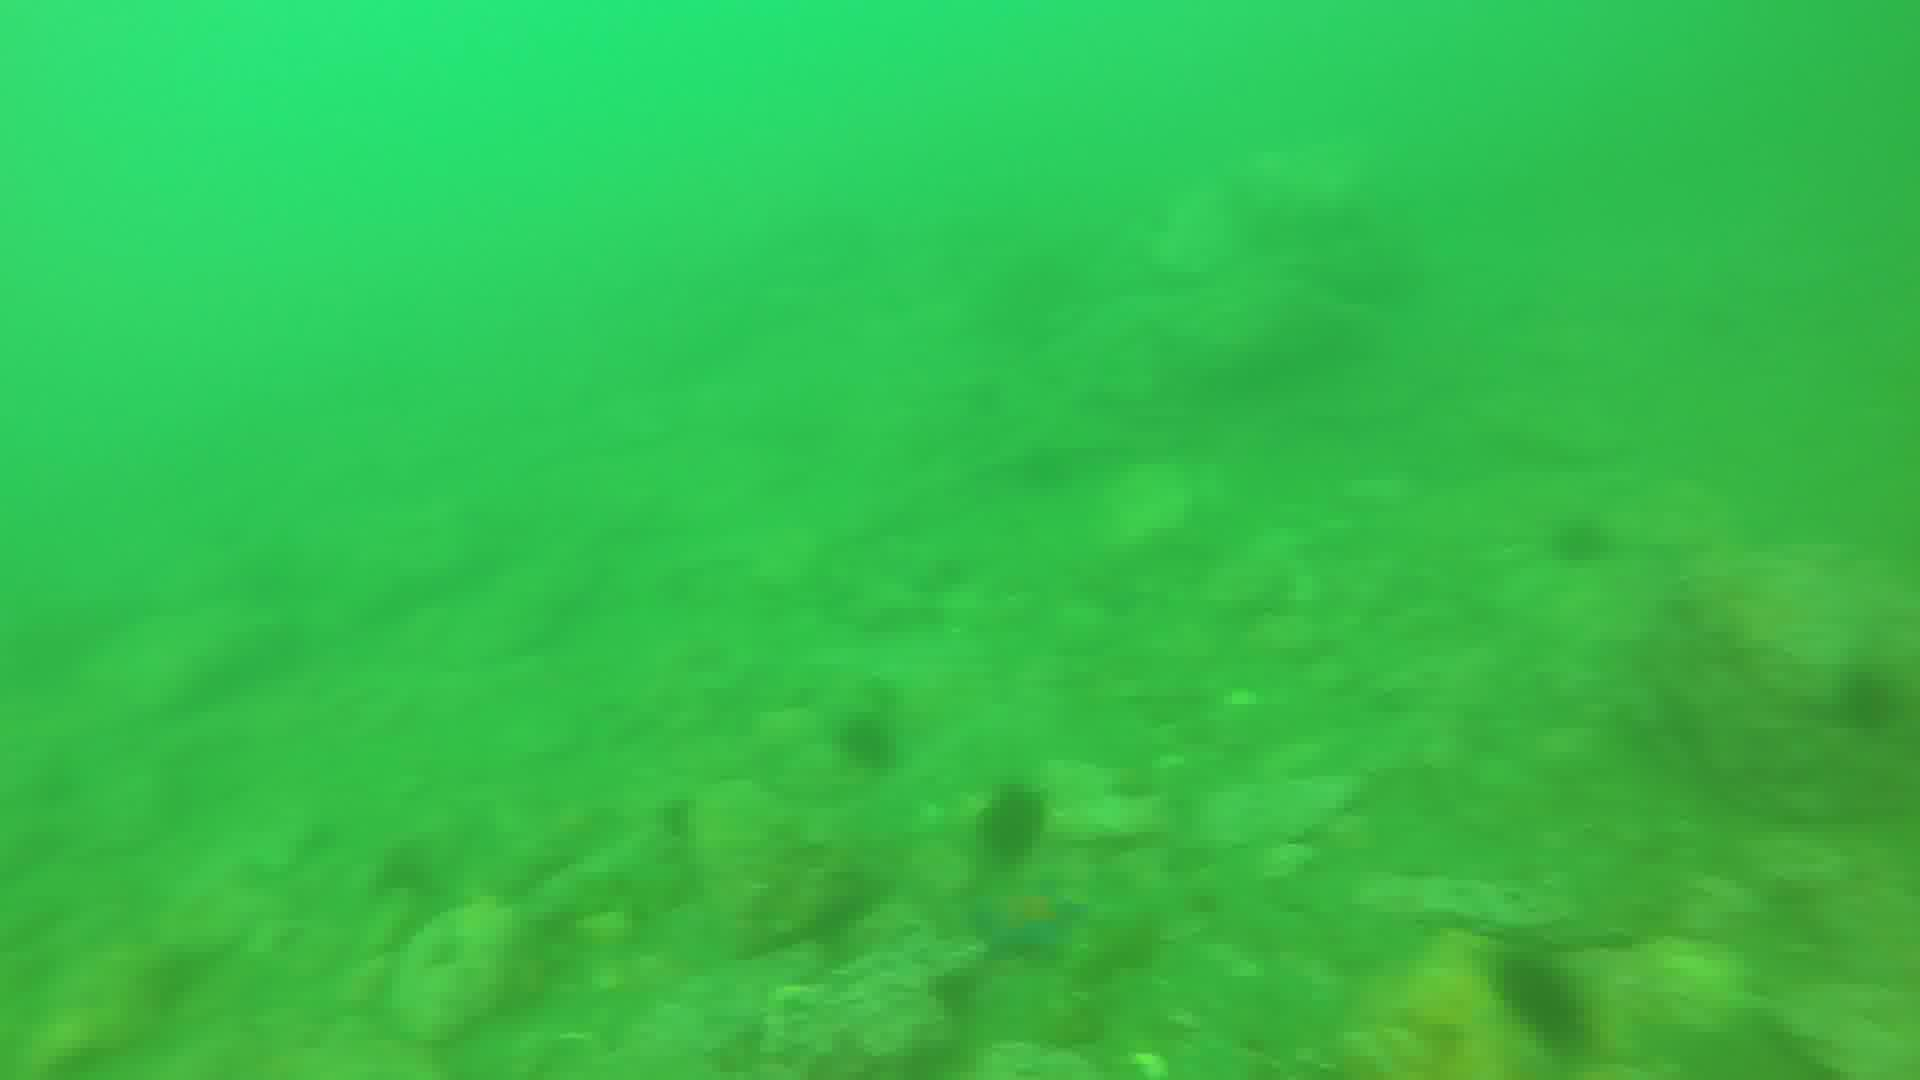echinus: (1491, 952, 1582, 1058), (975, 775, 1058, 870), (843, 704, 909, 773), (1549, 508, 1611, 567)
starfish: (973, 873, 1076, 965)
